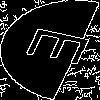E: (24, 25, 100, 71)
